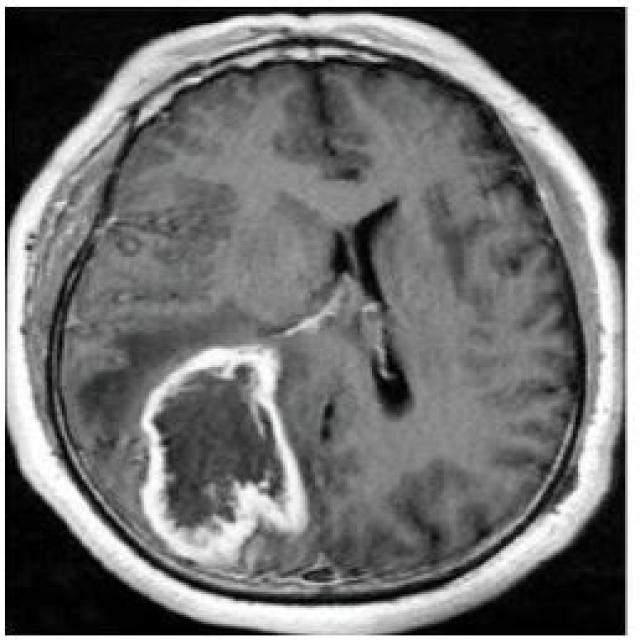Tumor-Cell: (118, 314, 316, 568)
